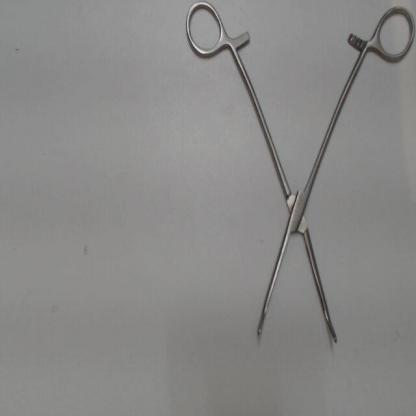Lahey Forceps: (180, 1, 415, 349)
